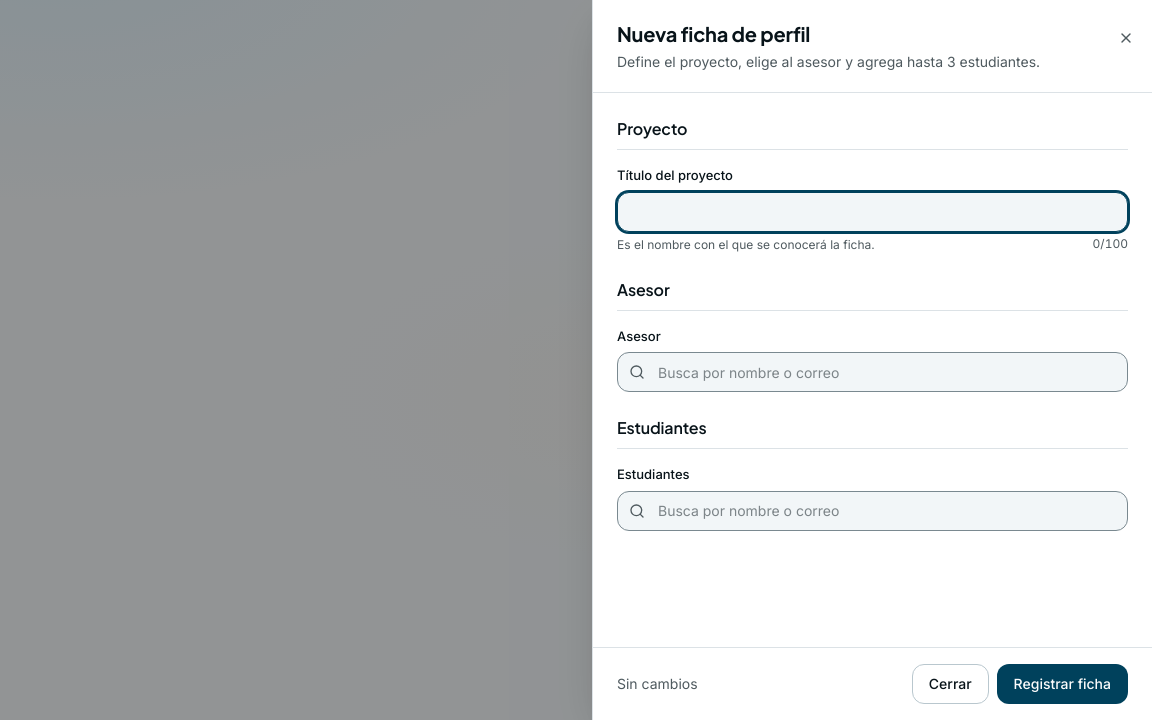
RegistrarFichaPerfilPanel › enviar con errores muestra el resumen, enfoca el primer campo y no registra
Click the button "Registrar ficha".
click(1062, 684)  # box [997,664,1128,704]
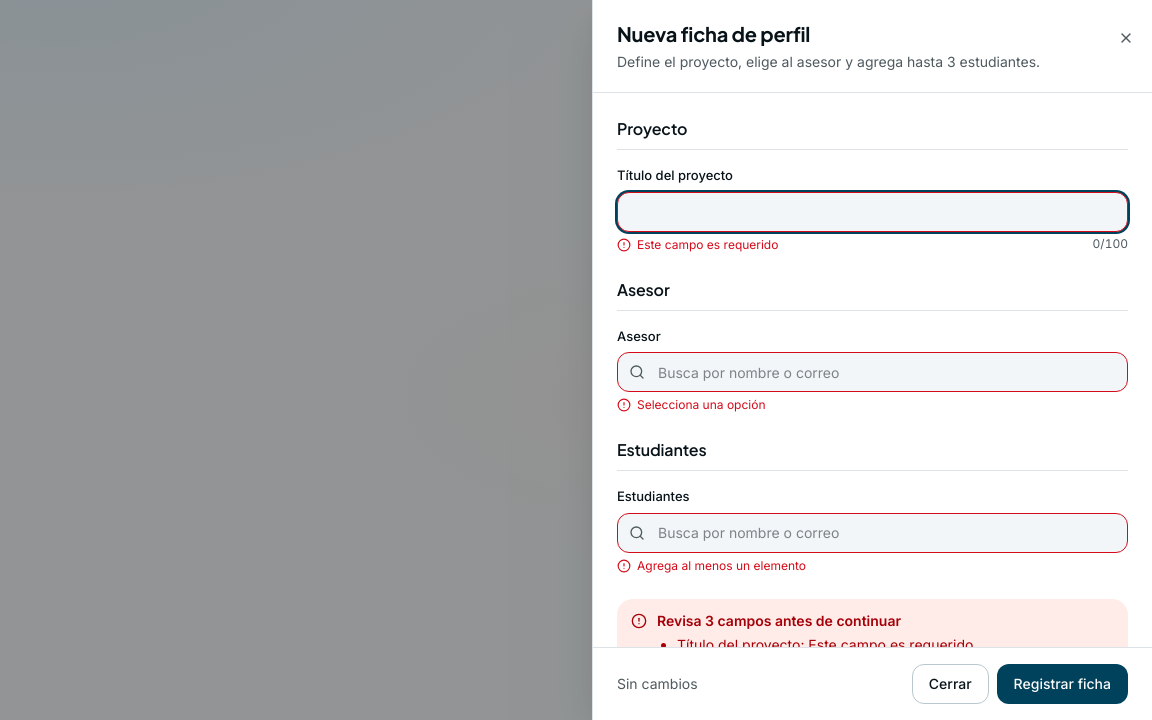
Check: the text "Revisa 3 campos antes de continuar" is shown, box [657,612,901,628]
